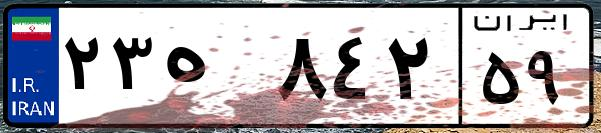2: (385, 28, 445, 110), (57, 26, 110, 100)
3: (110, 28, 158, 98)
4: (330, 28, 385, 110)
5: (475, 38, 525, 113)
8: (270, 28, 330, 110)
9: (525, 38, 570, 115)
ه: (158, 20, 270, 120)
